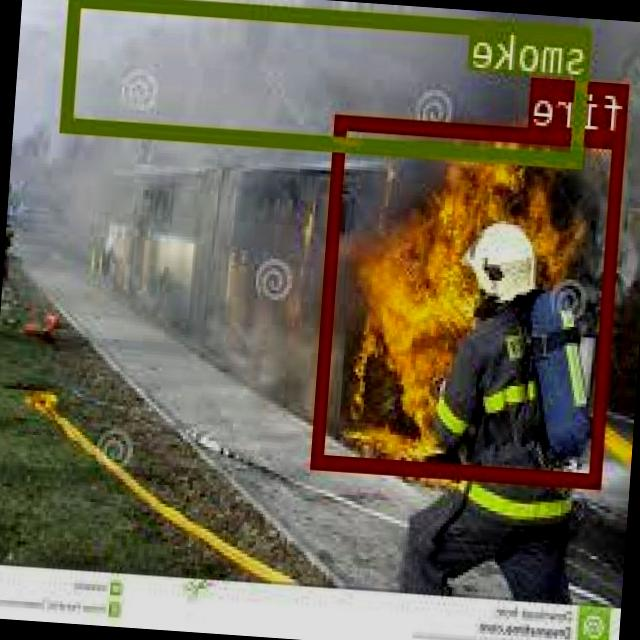fire: (313, 112, 627, 486)
smoke: (62, 0, 592, 164)
